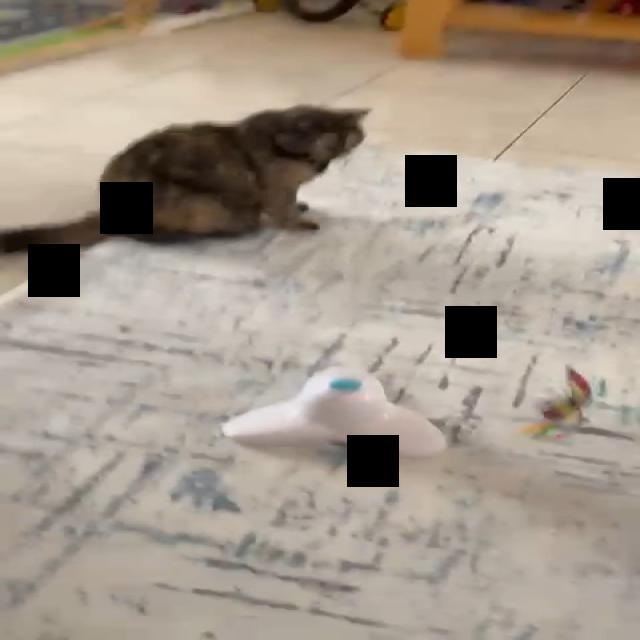authorized: (0, 102, 372, 254)
